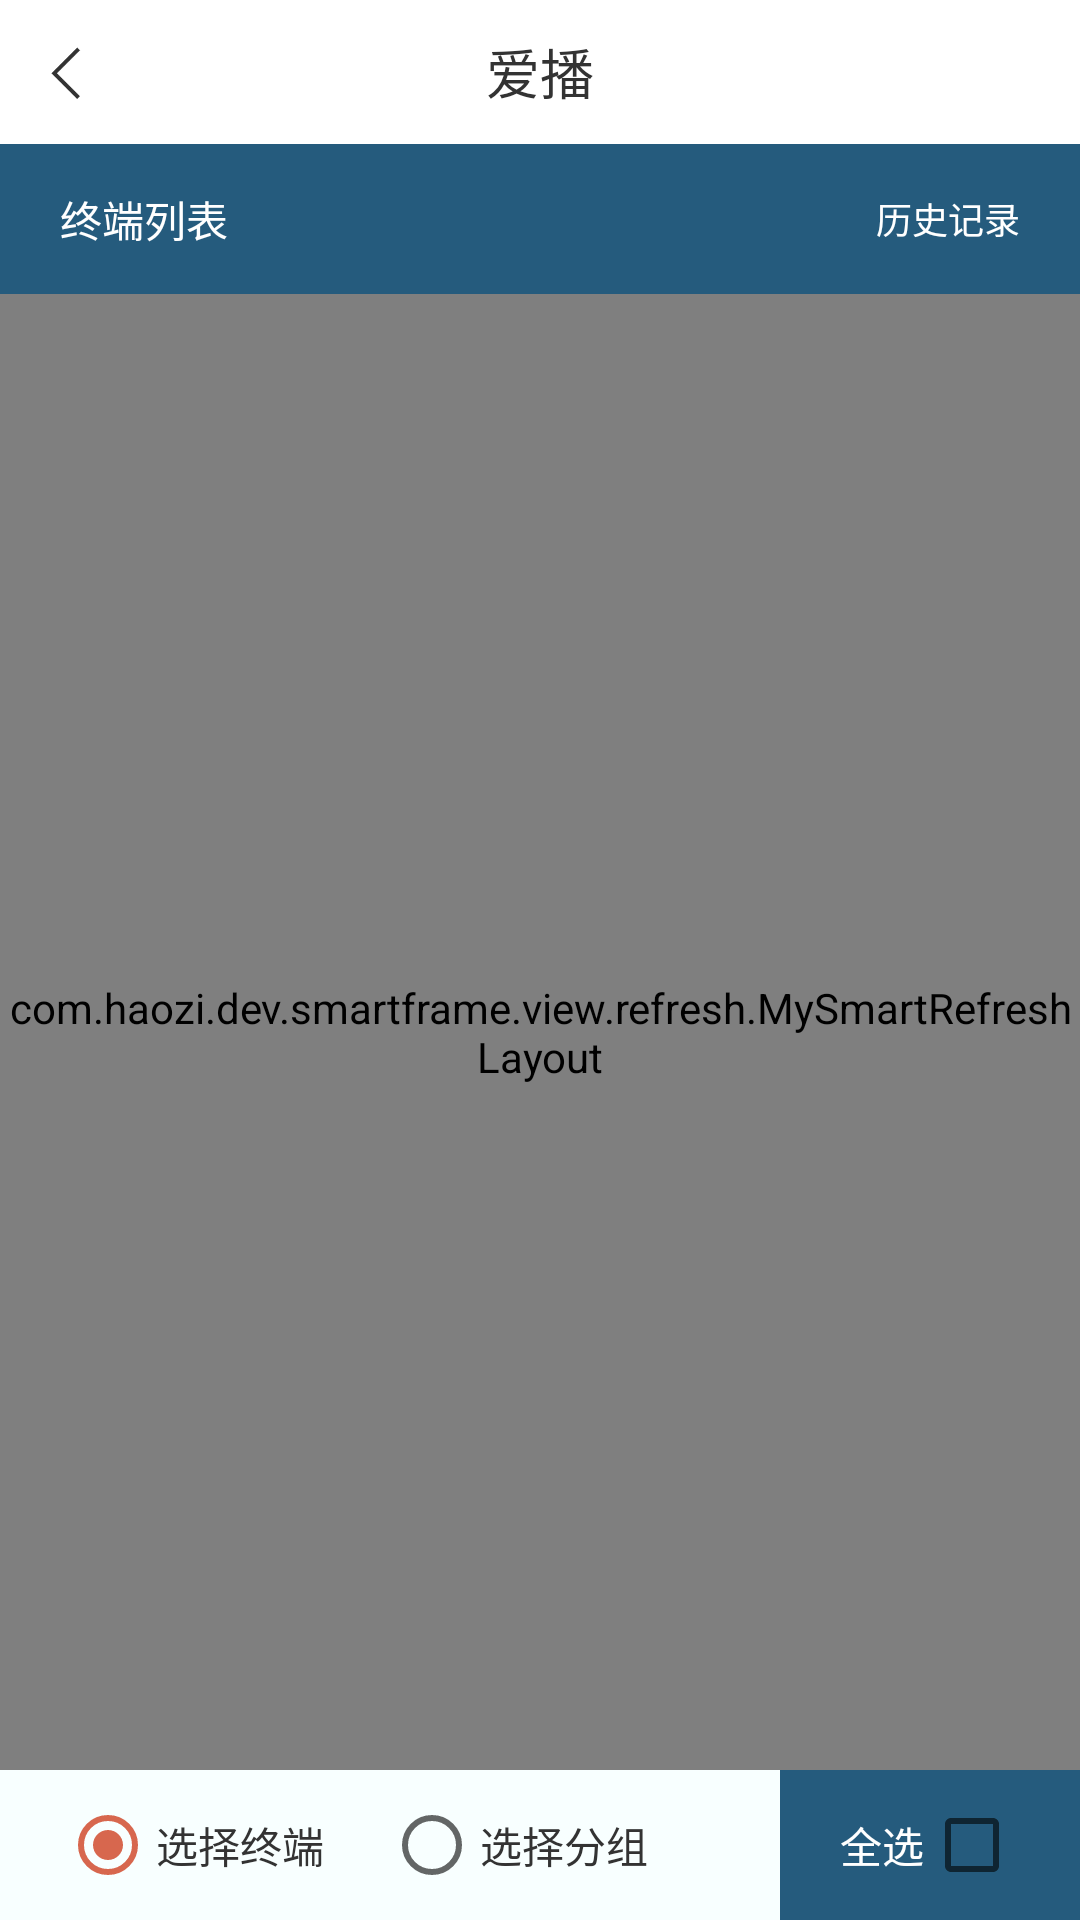

Locate icon controls on the screen. Image size 1080x1920, boxes as (x1, y1, x2, y2).
back: (51, 47, 80, 99)
